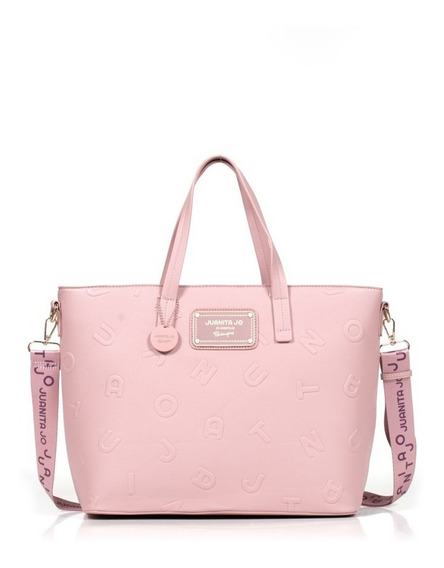cartera: (28, 156, 421, 519)
